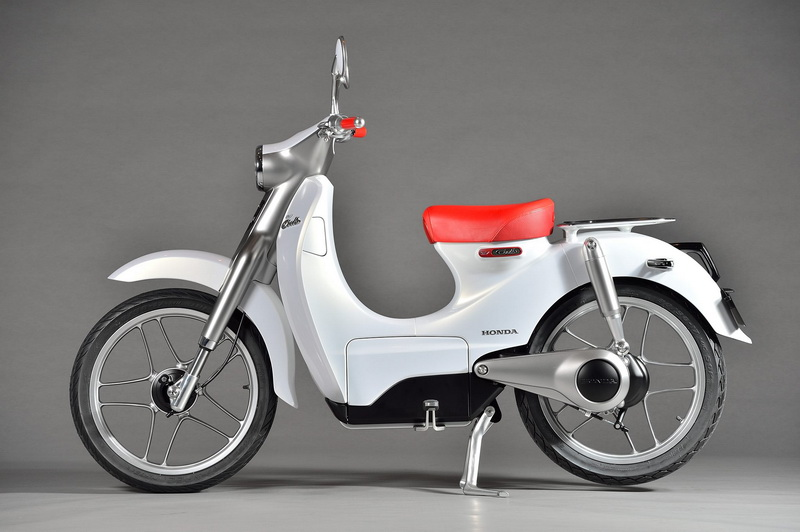motorcycle: (69, 39, 755, 493)
